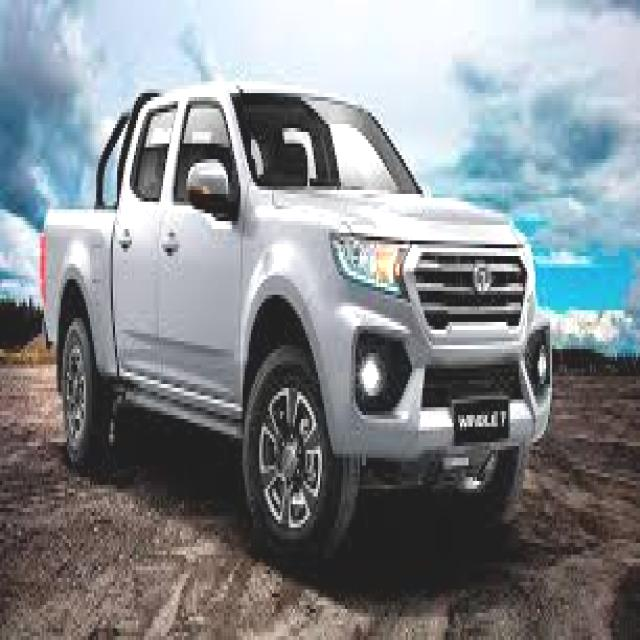CMT: (29, 84, 551, 534)
